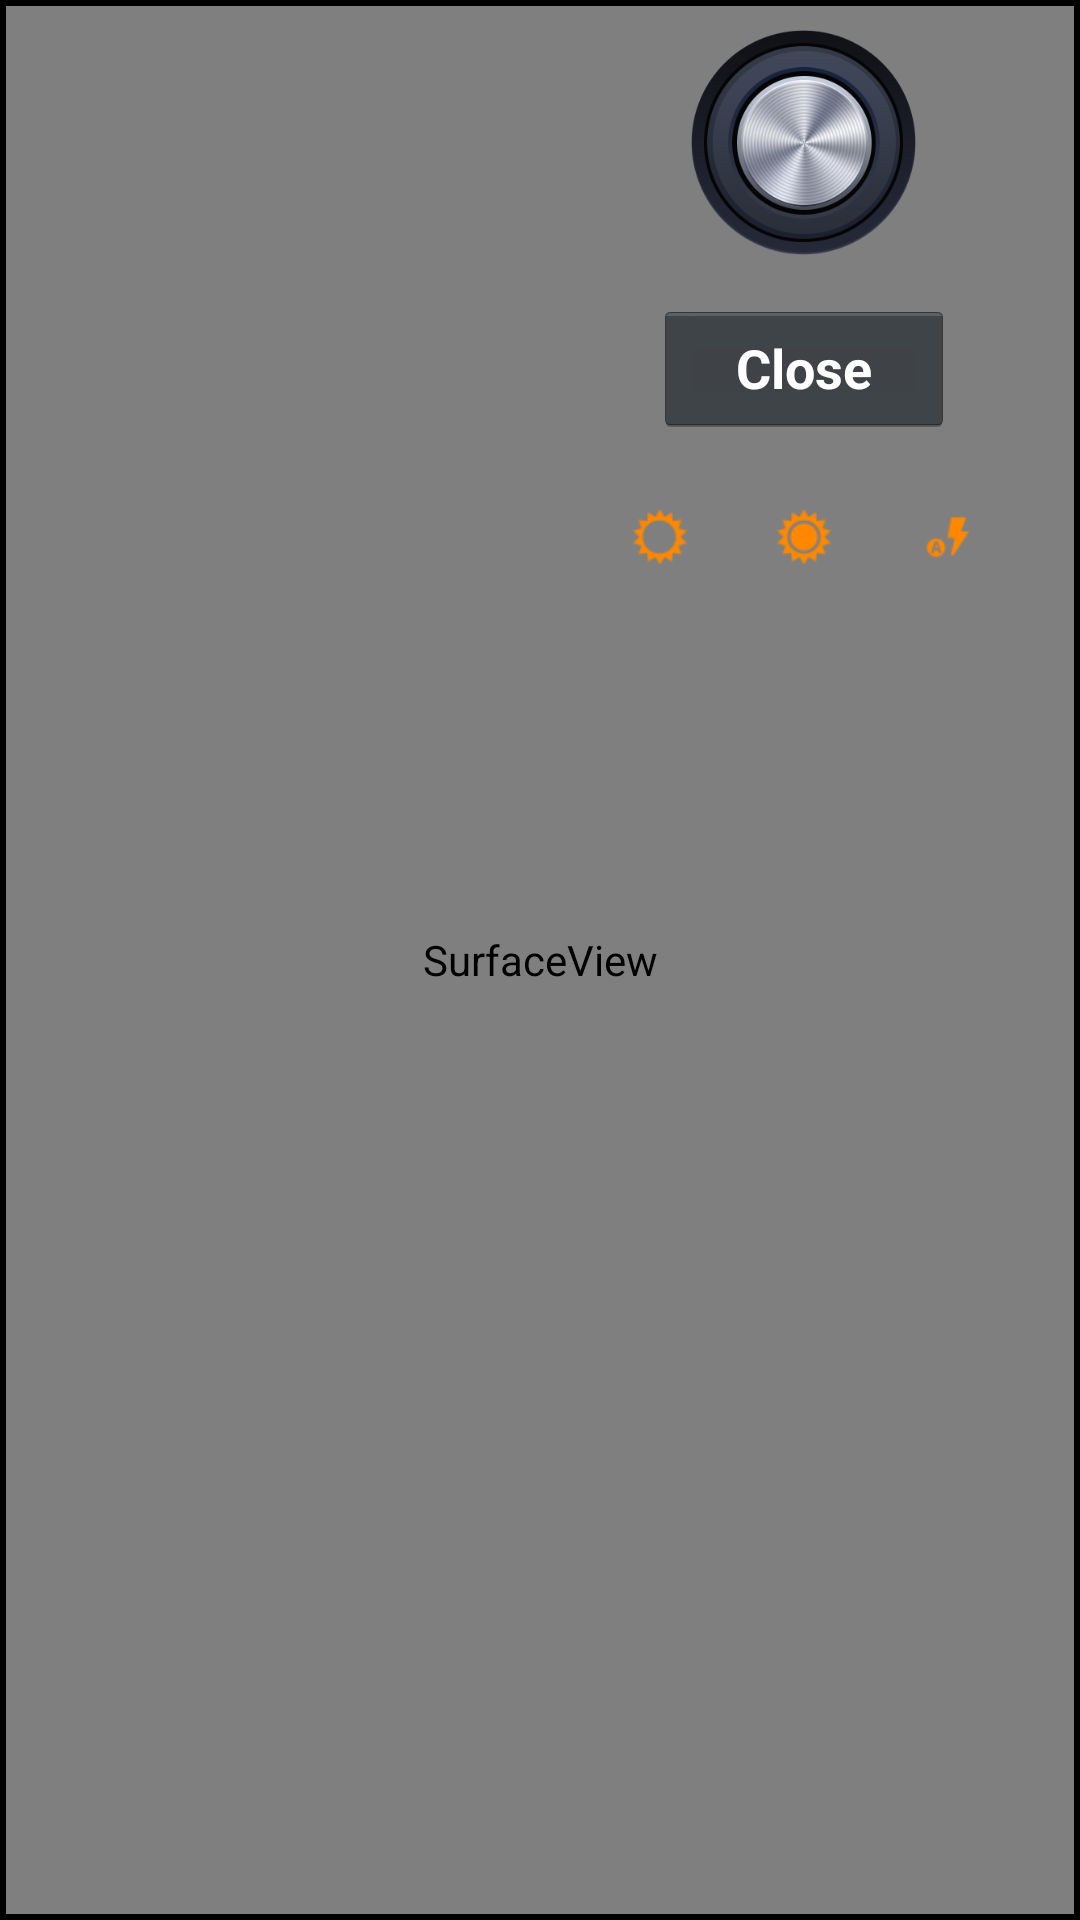

Named icons in this screenshot (1080×1920) and their bounding boxes, [x1,y1,x2,y2]:
flash auto: [926,517,969,557]
